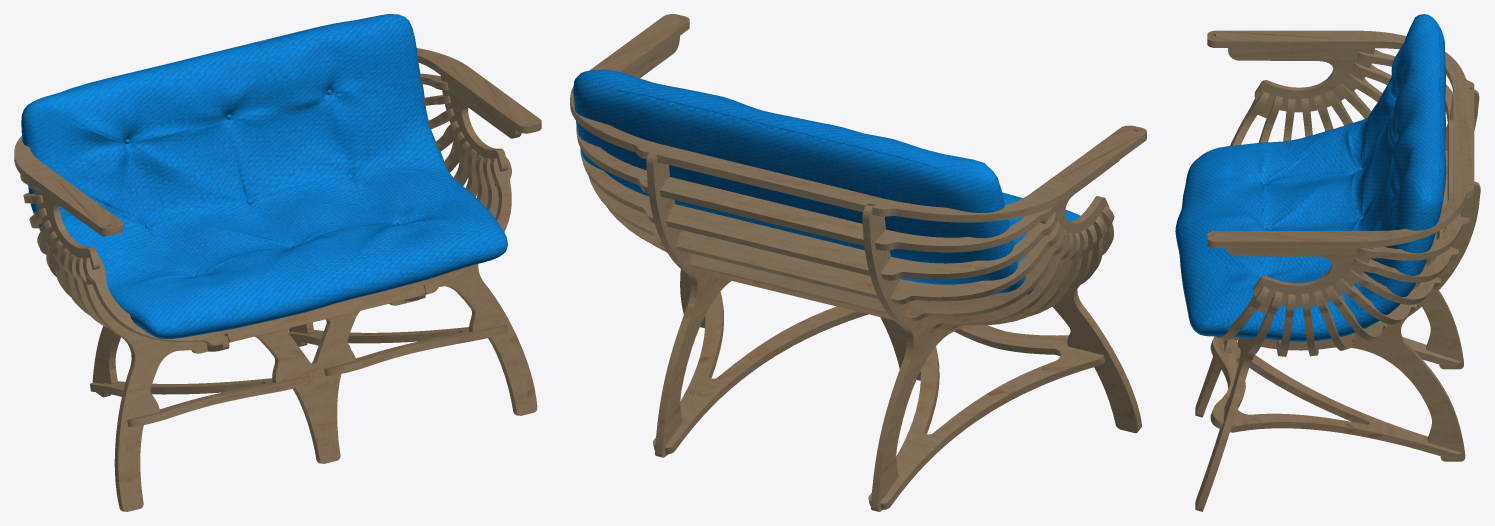
3 renders of one model, left to right at view 1: azimuth 30°, elevation 25°; view 2: azimuth 150°, elevation 25°; view 3: azimuth 270°, elevation 25°, orthographic. The views are drawn at different scales.
Parts seen in each view (by area): view 1: подух, диван_гердер - baked; view 2: диван_гердер - baked, подух; view 3: диван_гердер - baked, подух.
Part boxes in pixels (x1,y1,x2,y2): подух: (21,14,507,339); диван_гердер - baked: (14,48,541,511); диван_гердер - baked: (570,14,1146,511); подух: (573,69,1080,295); диван_гердер - baked: (1195,30,1480,511); подух: (1175,14,1446,341).
Size of the model in its own units: 1.25 by 0.8752 by 0.7622.
2 materials, 2 textured.
